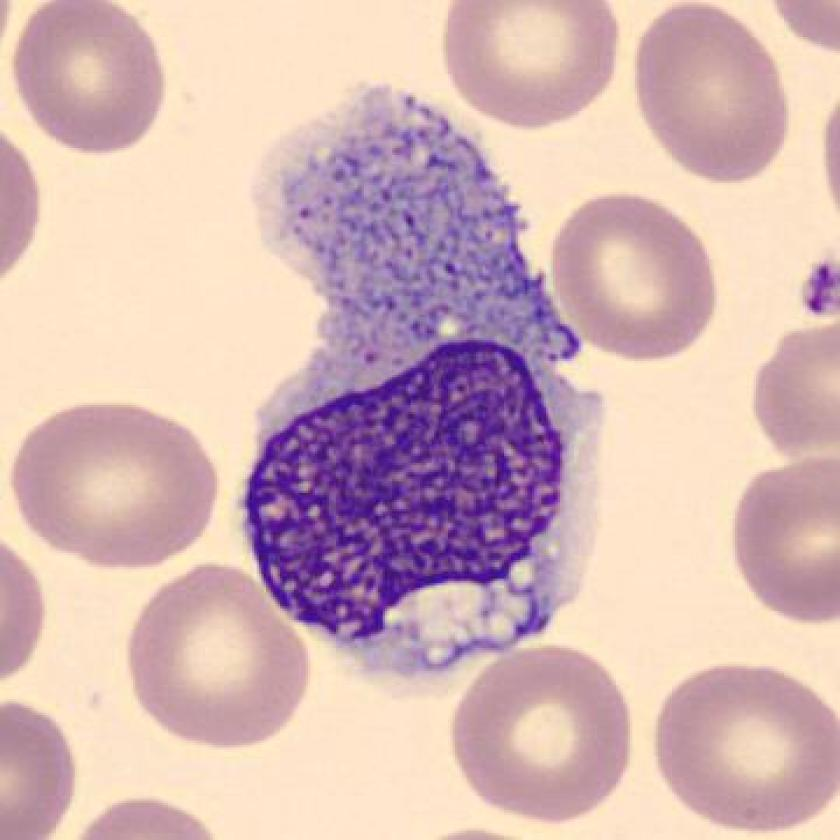monocyte: (216, 57, 631, 714)
